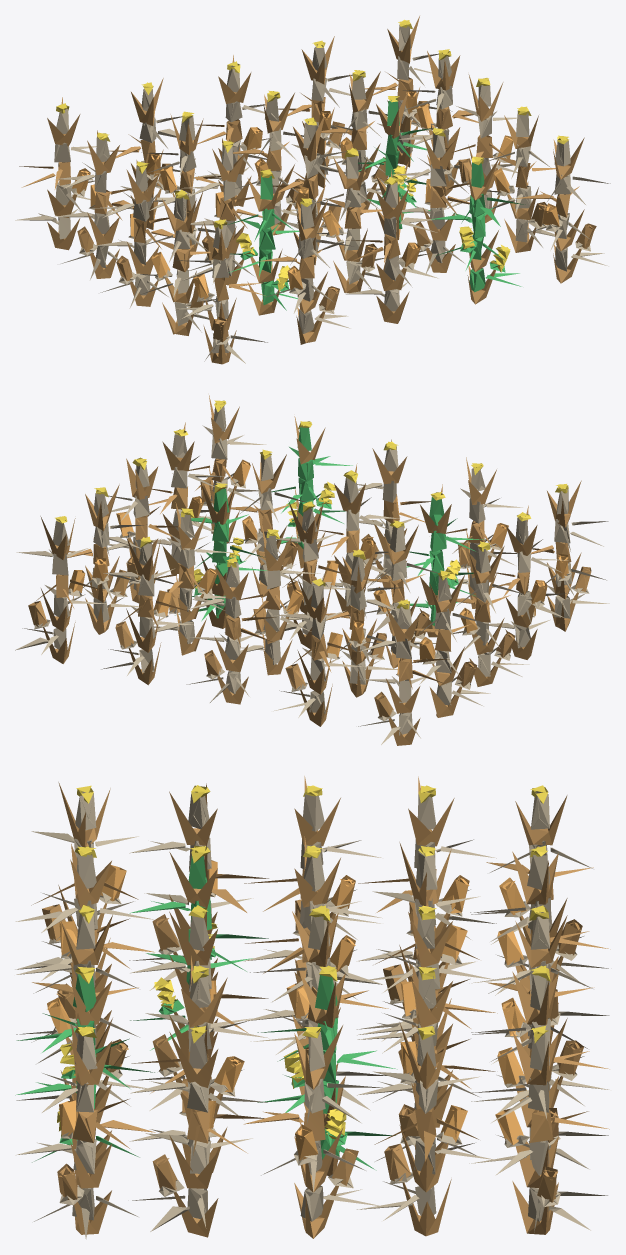
The model's file is corn_field_lod3.fbx.
3 renders of one model, top to bottom at view 1: azimuth 30°, elevation 25°; view 2: azimuth 150°, elevation 25°; view 3: azimuth 270°, elevation 25°, orthographic. The views are drawn at different scales.
Parts seen in each view (by area): view 1: corn_field_lod3; view 2: corn_field_lod3; view 3: corn_field_lod3.
Boxes of the visible parts, left/top/right/bottom form: corn_field_lod3: left=15, top=16, right=610, bottom=364; corn_field_lod3: left=15, top=395, right=609, bottom=745; corn_field_lod3: left=15, top=776, right=610, bottom=1239.
Bounding box in the file's own units: 301 × 96.72 × 253.
